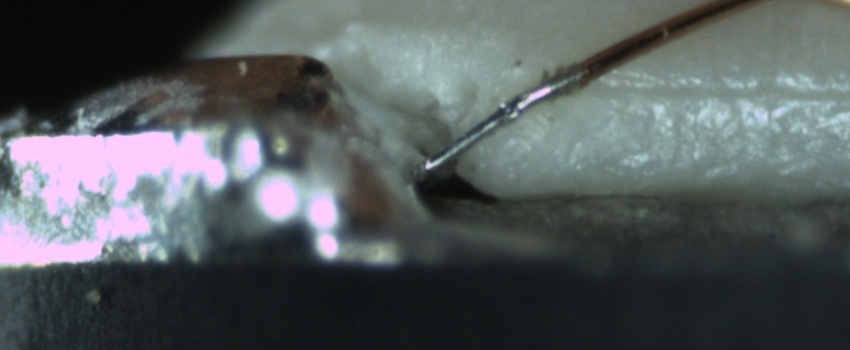DL: (562, 57, 850, 121)
TS: (416, 67, 584, 177)
TTCW: (418, 42, 626, 180)
